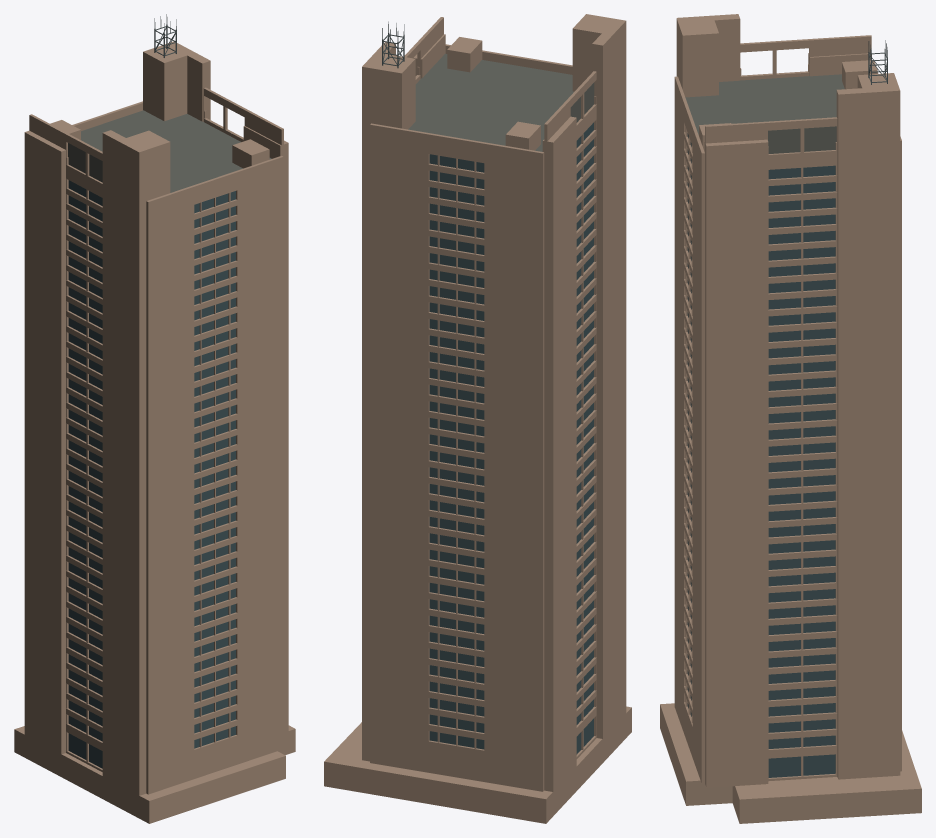
The model's file is rhodes-state-office-tower-far.glb.
3 views of the same model, side by side, from view 1: azimuth 30°, elevation 25°; view 2: azimuth 150°, elevation 25°; view 3: azimuth 270°, elevation 25° (orthographic). The views are drawn at different scales.
Parts seen in each view (by area): view 1: rhodes-state-office-tower-0-stone, rhodes-state-office-tower-0-glass, rhodes-state-office-tower-0-roof; view 2: rhodes-state-office-tower-0-stone, rhodes-state-office-tower-0-glass, rhodes-state-office-tower-0-roof; view 3: rhodes-state-office-tower-0-stone, rhodes-state-office-tower-0-glass, rhodes-state-office-tower-0-roof.
Part boxes in pixels (x1,y1,x2,y2): rhodes-state-office-tower-0-stone: (14,41,295,823); rhodes-state-office-tower-0-glass: (68,180,235,768); rhodes-state-office-tower-0-roof: (68,110,271,192); rhodes-state-office-tower-0-stone: (324,14,631,823); rhodes-state-office-tower-0-glass: (429,122,593,754); rhodes-state-office-tower-0-roof: (408,53,594,151); rhodes-state-office-tower-0-stone: (660,14,921,823); rhodes-state-office-tower-0-glass: (687,133,835,777); rhodes-state-office-tower-0-roof: (685,74,844,153).
Bounding box in the file's own units: 63.6 × 202 × 64.11.
